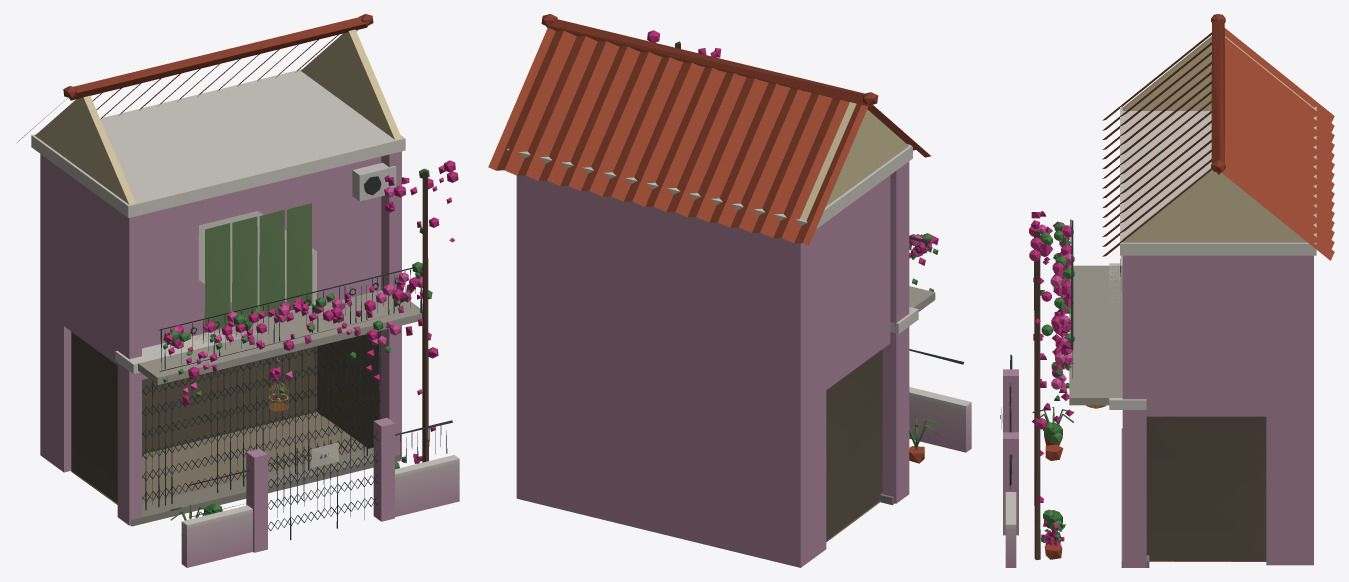
The model's file is nha_ba_sau.glb.
3 views of the same model, side by side, from view 1: azimuth 30°, elevation 25°; view 2: azimuth 150°, elevation 25°; view 3: azimuth 270°, elevation 25° (orthographic). The views are drawn at different scales.
Visible parts, largest first — view 1: nha_ba_sau; view 2: nha_ba_sau; view 3: nha_ba_sau.
Boxes of the visible parts, bbox=[...] form: nha_ba_sau: bbox=[17, 14, 459, 567]; nha_ba_sau: bbox=[488, 14, 971, 567]; nha_ba_sau: bbox=[1000, 14, 1334, 567].
Size of the model in its own units: 6.79 by 8.6 by 6.29.
